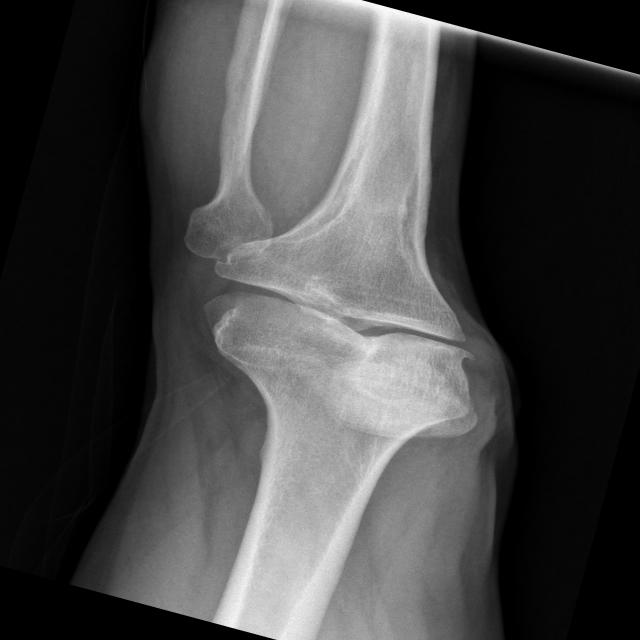Knee: (183, 190, 522, 464)
